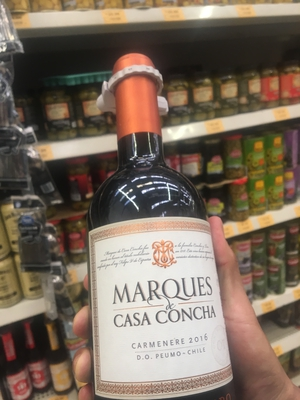marques de casa concha carmenere: (84, 65, 252, 400)
